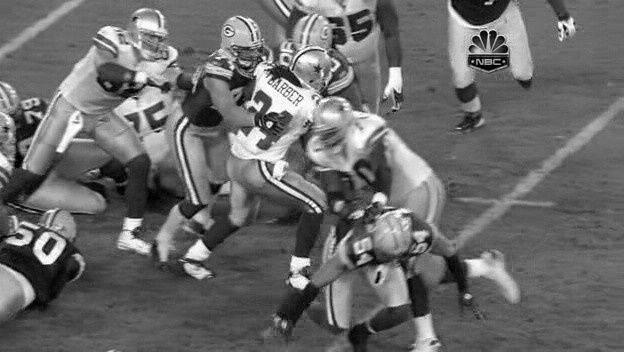person: (297, 50, 332, 95), (296, 50, 331, 95), (298, 50, 333, 95), (297, 49, 332, 94), (297, 51, 332, 96)
target_negative: (136, 255, 540, 285), (368, 162, 557, 207), (236, 254, 317, 330), (362, 180, 455, 218), (412, 289, 506, 318), (179, 302, 217, 308)
